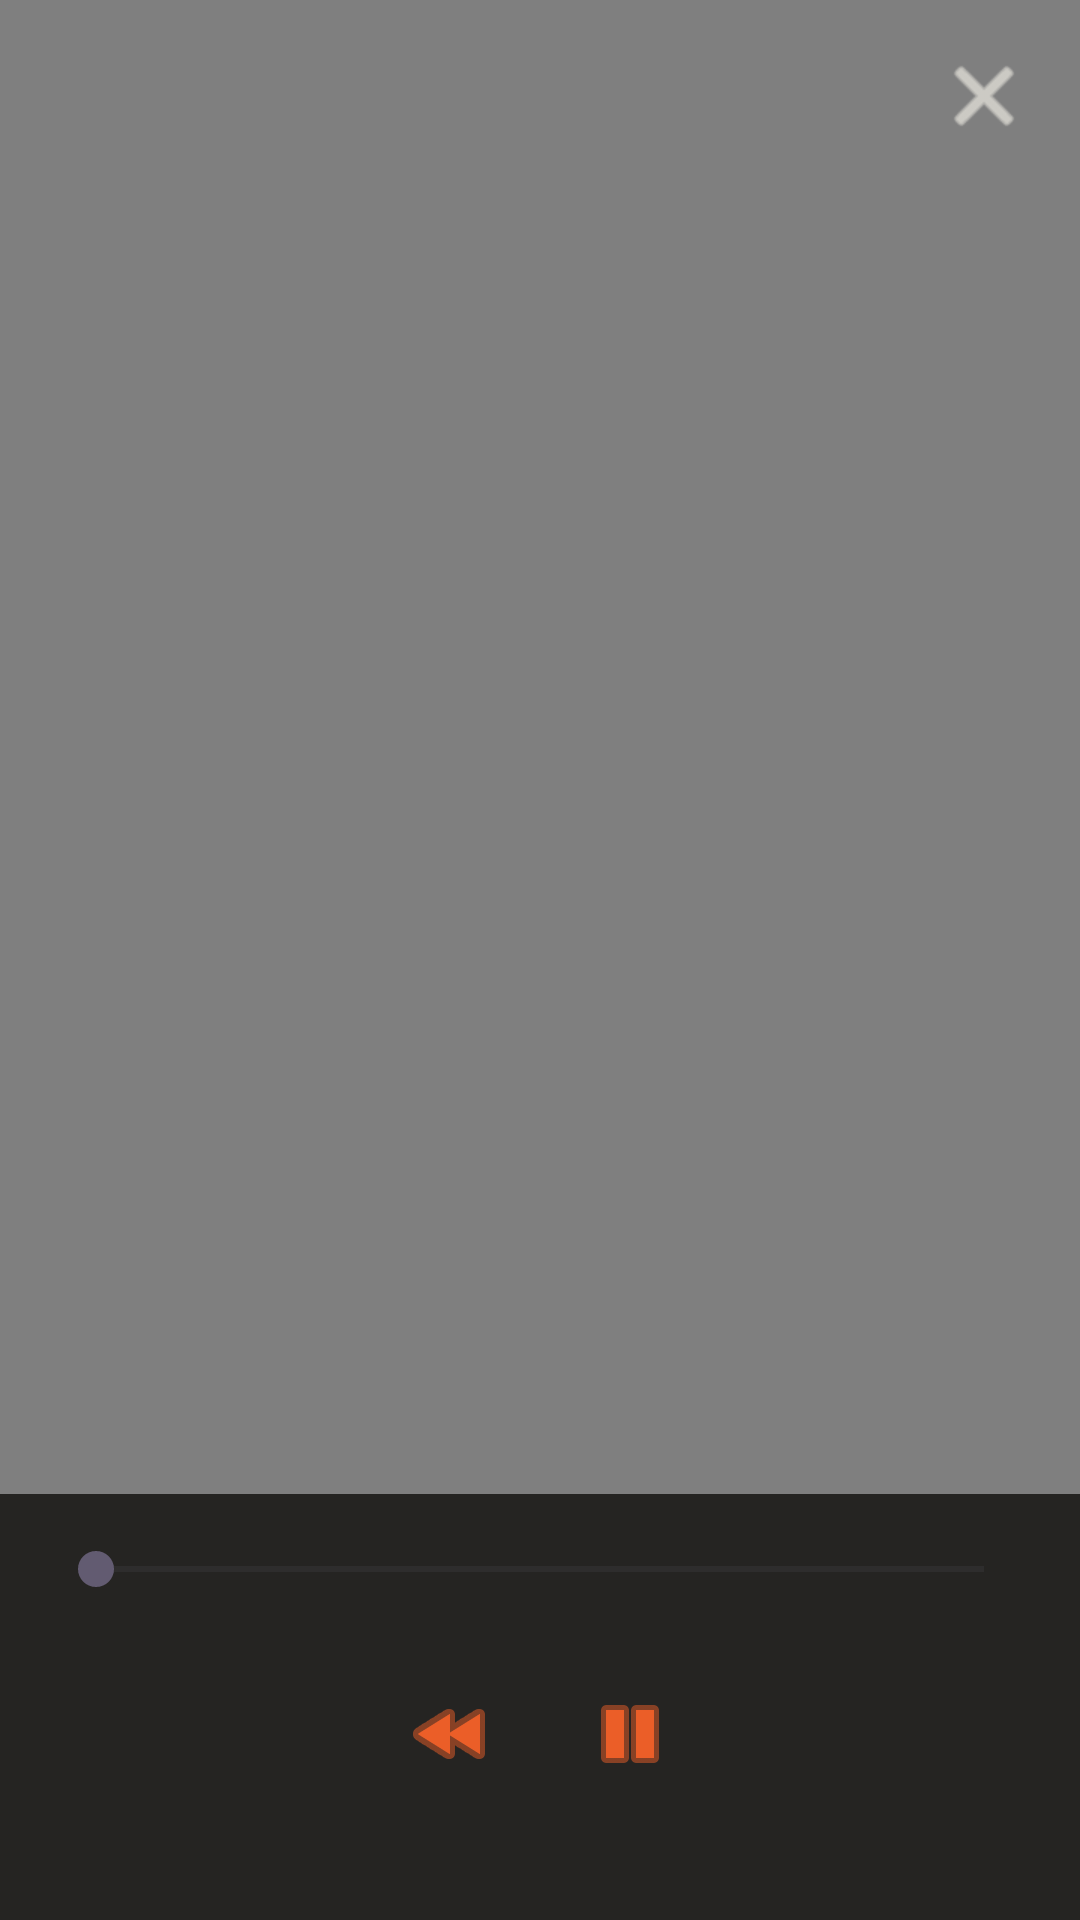

Named icons in this screenshot (1080*1920) and their bounding boxes, (x1, y1, x2, y2):
close clear cancel: (954, 66, 1014, 126)
pause: (601, 1705, 659, 1763)
rew: (413, 1709, 485, 1759)
